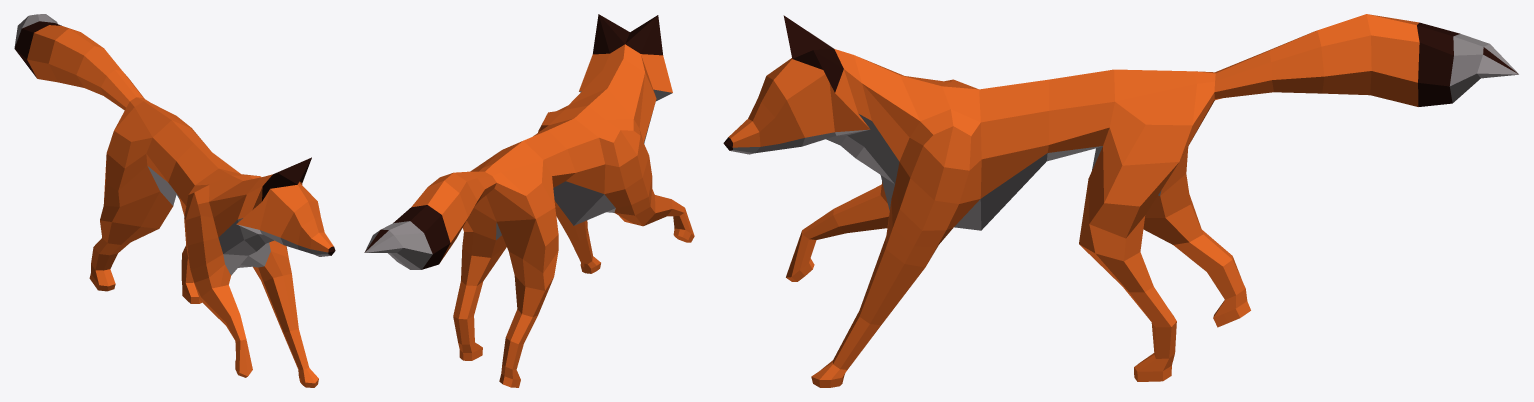
Rendered from Fox.gltf.
The picture shows the model from 3 angles, left to right: view 1: azimuth 30°, elevation 25°; view 2: azimuth 150°, elevation 25°; view 3: azimuth 270°, elevation 25°; orthographic projection. The views are drawn at different scales.
Parts seen in each view (by area): view 1: Fox_by_vladhad22@gmail.com.054, Fox_by_vladhad22@gmail.com.357, Fox_by_vladhad22@gmail.com.238, Fox_by_vladhad22@gmail.com.240, Fox_by_vladhad22@gmail.com.211, Fox_by_vladhad22@gmail.com.165, Fox_by_vladhad22@gmail.com.356, Fox_by_vladhad22@gmail.com.242, Fox_by_vladhad22@gmail.com.355, Fox_by_vladhad22@gmail.com.213, Fox_by_vladhad22@gmail.com.167, Fox_by_vladhad22@gmail.com.155 (+39 smaller); view 2: Fox_by_vladhad22@gmail.com.274, Fox_by_vladhad22@gmail.com.237, Fox_by_vladhad22@gmail.com.227, Fox_by_vladhad22@gmail.com.155, Fox_by_vladhad22@gmail.com.356, Fox_by_vladhad22@gmail.com.238, Fox_by_vladhad22@gmail.com.244, Fox_by_vladhad22@gmail.com.242, Fox_by_vladhad22@gmail.com.052, Fox_by_vladhad22@gmail.com.262, Fox_by_vladhad22@gmail.com.240, Fox_by_vladhad22@gmail.com.353 (+43 smaller); view 3: Fox_by_vladhad22@gmail.com.066, Fox_by_vladhad22@gmail.com.272, Fox_by_vladhad22@gmail.com.279, Fox_by_vladhad22@gmail.com.276, Fox_by_vladhad22@gmail.com.283, Fox_by_vladhad22@gmail.com.036, Fox_by_vladhad22@gmail.com.124, Fox_by_vladhad22@gmail.com.275, Fox_by_vladhad22@gmail.com.278, Fox_by_vladhad22@gmail.com.078, Fox_by_vladhad22@gmail.com.076, Fox_by_vladhad22@gmail.com.270 (+40 smaller).
Boxes of the visible parts, bbox=[...] form: Fox_by_vladhad22@gmail.com.054: bbox=[260, 189, 293, 237]; Fox_by_vladhad22@gmail.com.357: bbox=[118, 166, 159, 206]; Fox_by_vladhad22@gmail.com.238: bbox=[176, 144, 218, 184]; Fox_by_vladhad22@gmail.com.240: bbox=[153, 120, 193, 160]; Fox_by_vladhad22@gmail.com.211: bbox=[112, 191, 159, 226]; Fox_by_vladhad22@gmail.com.165: bbox=[48, 40, 83, 74]; Fox_by_vladhad22@gmail.com.356: bbox=[114, 107, 152, 141]; Fox_by_vladhad22@gmail.com.242: bbox=[135, 101, 171, 137]; Fox_by_vladhad22@gmail.com.355: bbox=[146, 138, 176, 181]; Fox_by_vladhad22@gmail.com.213: bbox=[141, 191, 172, 228]; Fox_by_vladhad22@gmail.com.167: bbox=[27, 33, 54, 63]; Fox_by_vladhad22@gmail.com.155: bbox=[168, 161, 194, 205]; Fox_by_vladhad22@gmail.com.274: bbox=[553, 181, 603, 225]; Fox_by_vladhad22@gmail.com.237: bbox=[608, 58, 644, 118]; Fox_by_vladhad22@gmail.com.227: bbox=[497, 219, 535, 258]; Fox_by_vladhad22@gmail.com.155: bbox=[567, 138, 604, 172]; Fox_by_vladhad22@gmail.com.356: bbox=[501, 160, 543, 195]; Fox_by_vladhad22@gmail.com.238: bbox=[548, 118, 598, 148]; Fox_by_vladhad22@gmail.com.244: bbox=[486, 188, 535, 221]; Fox_by_vladhad22@gmail.com.242: bbox=[493, 141, 542, 171]; Fox_by_vladhad22@gmail.com.052: bbox=[641, 54, 672, 92]; Fox_by_vladhad22@gmail.com.262: bbox=[588, 88, 633, 120]; Fox_by_vladhad22@gmail.com.240: bbox=[523, 130, 566, 159]; Fox_by_vladhad22@gmail.com.353: bbox=[566, 164, 605, 193]; Fox_by_vladhad22@gmail.com.066: bbox=[980, 111, 1049, 159]; Fox_by_vladhad22@gmail.com.272: bbox=[979, 79, 1049, 122]; Fox_by_vladhad22@gmail.com.279: bbox=[1115, 84, 1196, 125]; Fox_by_vladhad22@gmail.com.276: bbox=[1049, 69, 1114, 110]; Fox_by_vladhad22@gmail.com.283: bbox=[1122, 124, 1192, 165]; Fox_by_vladhad22@gmail.com.036: bbox=[787, 74, 834, 137]; Fox_by_vladhad22@gmail.com.124: bbox=[1104, 162, 1178, 206]; Fox_by_vladhad22@gmail.com.275: bbox=[1049, 101, 1114, 144]; Fox_by_vladhad22@gmail.com.278: bbox=[1114, 69, 1196, 101]; Fox_by_vladhad22@gmail.com.078: bbox=[1371, 35, 1419, 82]; Fox_by_vladhad22@gmail.com.076: bbox=[1321, 35, 1371, 76]; Fox_by_vladhad22@gmail.com.270: bbox=[980, 145, 1048, 198].
Bounding box in the file's own units: 1.14 × 2.53 × 5.44.
